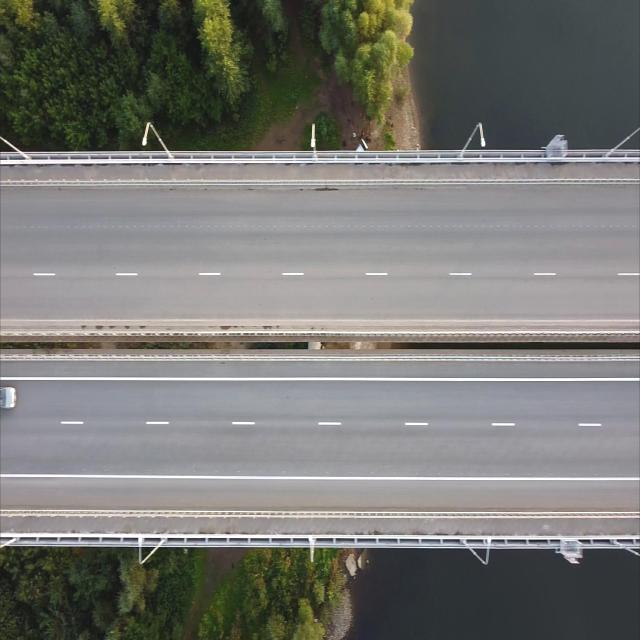Car: (0, 358, 25, 428)
